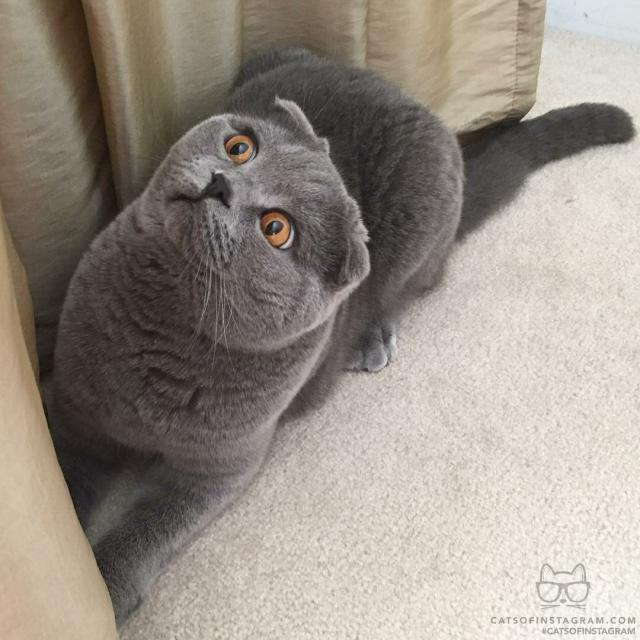british shorthair: (0, 24, 595, 594)
